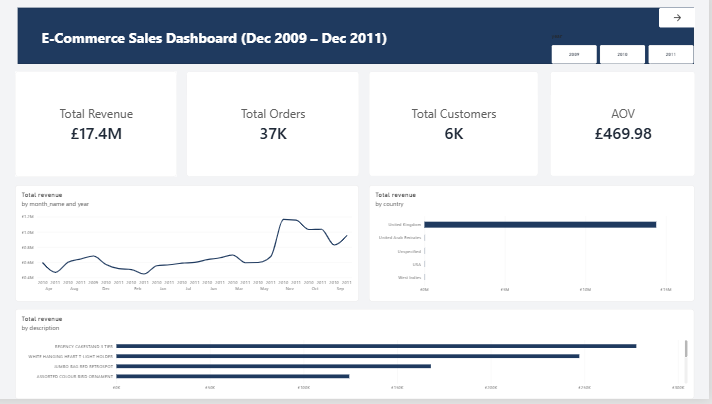

This screenshot's page, from the dashboard's own definition file:
{"tool":"powerbi","page":{"name":"Sales Overview","canvas":[1920,1080],"ordinal":0},"visuals":[{"type":"shape","box":[76.7,36.7,1803.3,150],"z":0},{"type":"cardVisual","fields":{"Data":["public fact_sales.AOV"]},"box":[1495.8,205.2,386.6,279.5],"z":1000},{"type":"cardVisual","fields":{"Data":["public fact_sales.Total Customers"]},"box":[1014,205.2,452,279.5],"z":2000},{"type":"cardVisual","fields":{"Data":["public fact_sales.total order"]},"box":[526.3,205.2,460,280],"z":3000},{"type":"cardVisual","fields":{"Data":["public fact_sales.Total revenue"]},"box":[71.4,205.2,430,280],"z":4000},{"type":"lineChart","fields":{"Category":["public dim_date.month_name","public dim_date.year"],"Y":["public fact_sales.Total revenue"]},"box":[71.4,508.5,915.9,309.3],"z":5000},{"type":"clusteredBarChart","fields":{"Category":["public dim_customer.country"],"Y":["public fact_sales.Total revenue"]},"box":[1014,508.5,868.3,309.3],"z":6000},{"type":"advancedSlicerVisual","fields":{"Values":["public dim_date.year"]},"box":[1500,103.3,380,83.3],"z":7000},{"type":"clusteredBarChart","fields":{"Category":["public dim_product.description"],"Y":["public fact_sales.Total revenue"]},"box":[70,840,1810,240],"z":8000},{"type":"textbox","box":[140,90,943.3,150],"z":9000},{"type":"actionButton","box":[1786.7,36.7,96.7,53.3],"z":10000}]}

Visuals, with their boxes in screenshot pixels (x1, y1, x2, y2), scaled from the page's 1920x1080 canvas onto the 712x404 screenshot:
shape: bbox(28, 14, 697, 70)
cardVisual - public fact_sales.AOV: bbox(555, 77, 698, 181)
cardVisual - public fact_sales.Total Customers: bbox(376, 77, 544, 181)
cardVisual - public fact_sales.total order: bbox(195, 77, 366, 182)
cardVisual - public fact_sales.Total revenue: bbox(26, 77, 186, 182)
lineChart - public dim_date.month_name x public dim_date.year: bbox(26, 190, 366, 306)
clusteredBarChart - public dim_customer.country x public fact_sales.Total revenue: bbox(376, 190, 698, 306)
advancedSlicerVisual - public dim_date.year: bbox(556, 39, 697, 70)
clusteredBarChart - public dim_product.description x public fact_sales.Total revenue: bbox(26, 314, 697, 403)
textbox: bbox(52, 34, 402, 90)
actionButton: bbox(663, 14, 698, 34)
